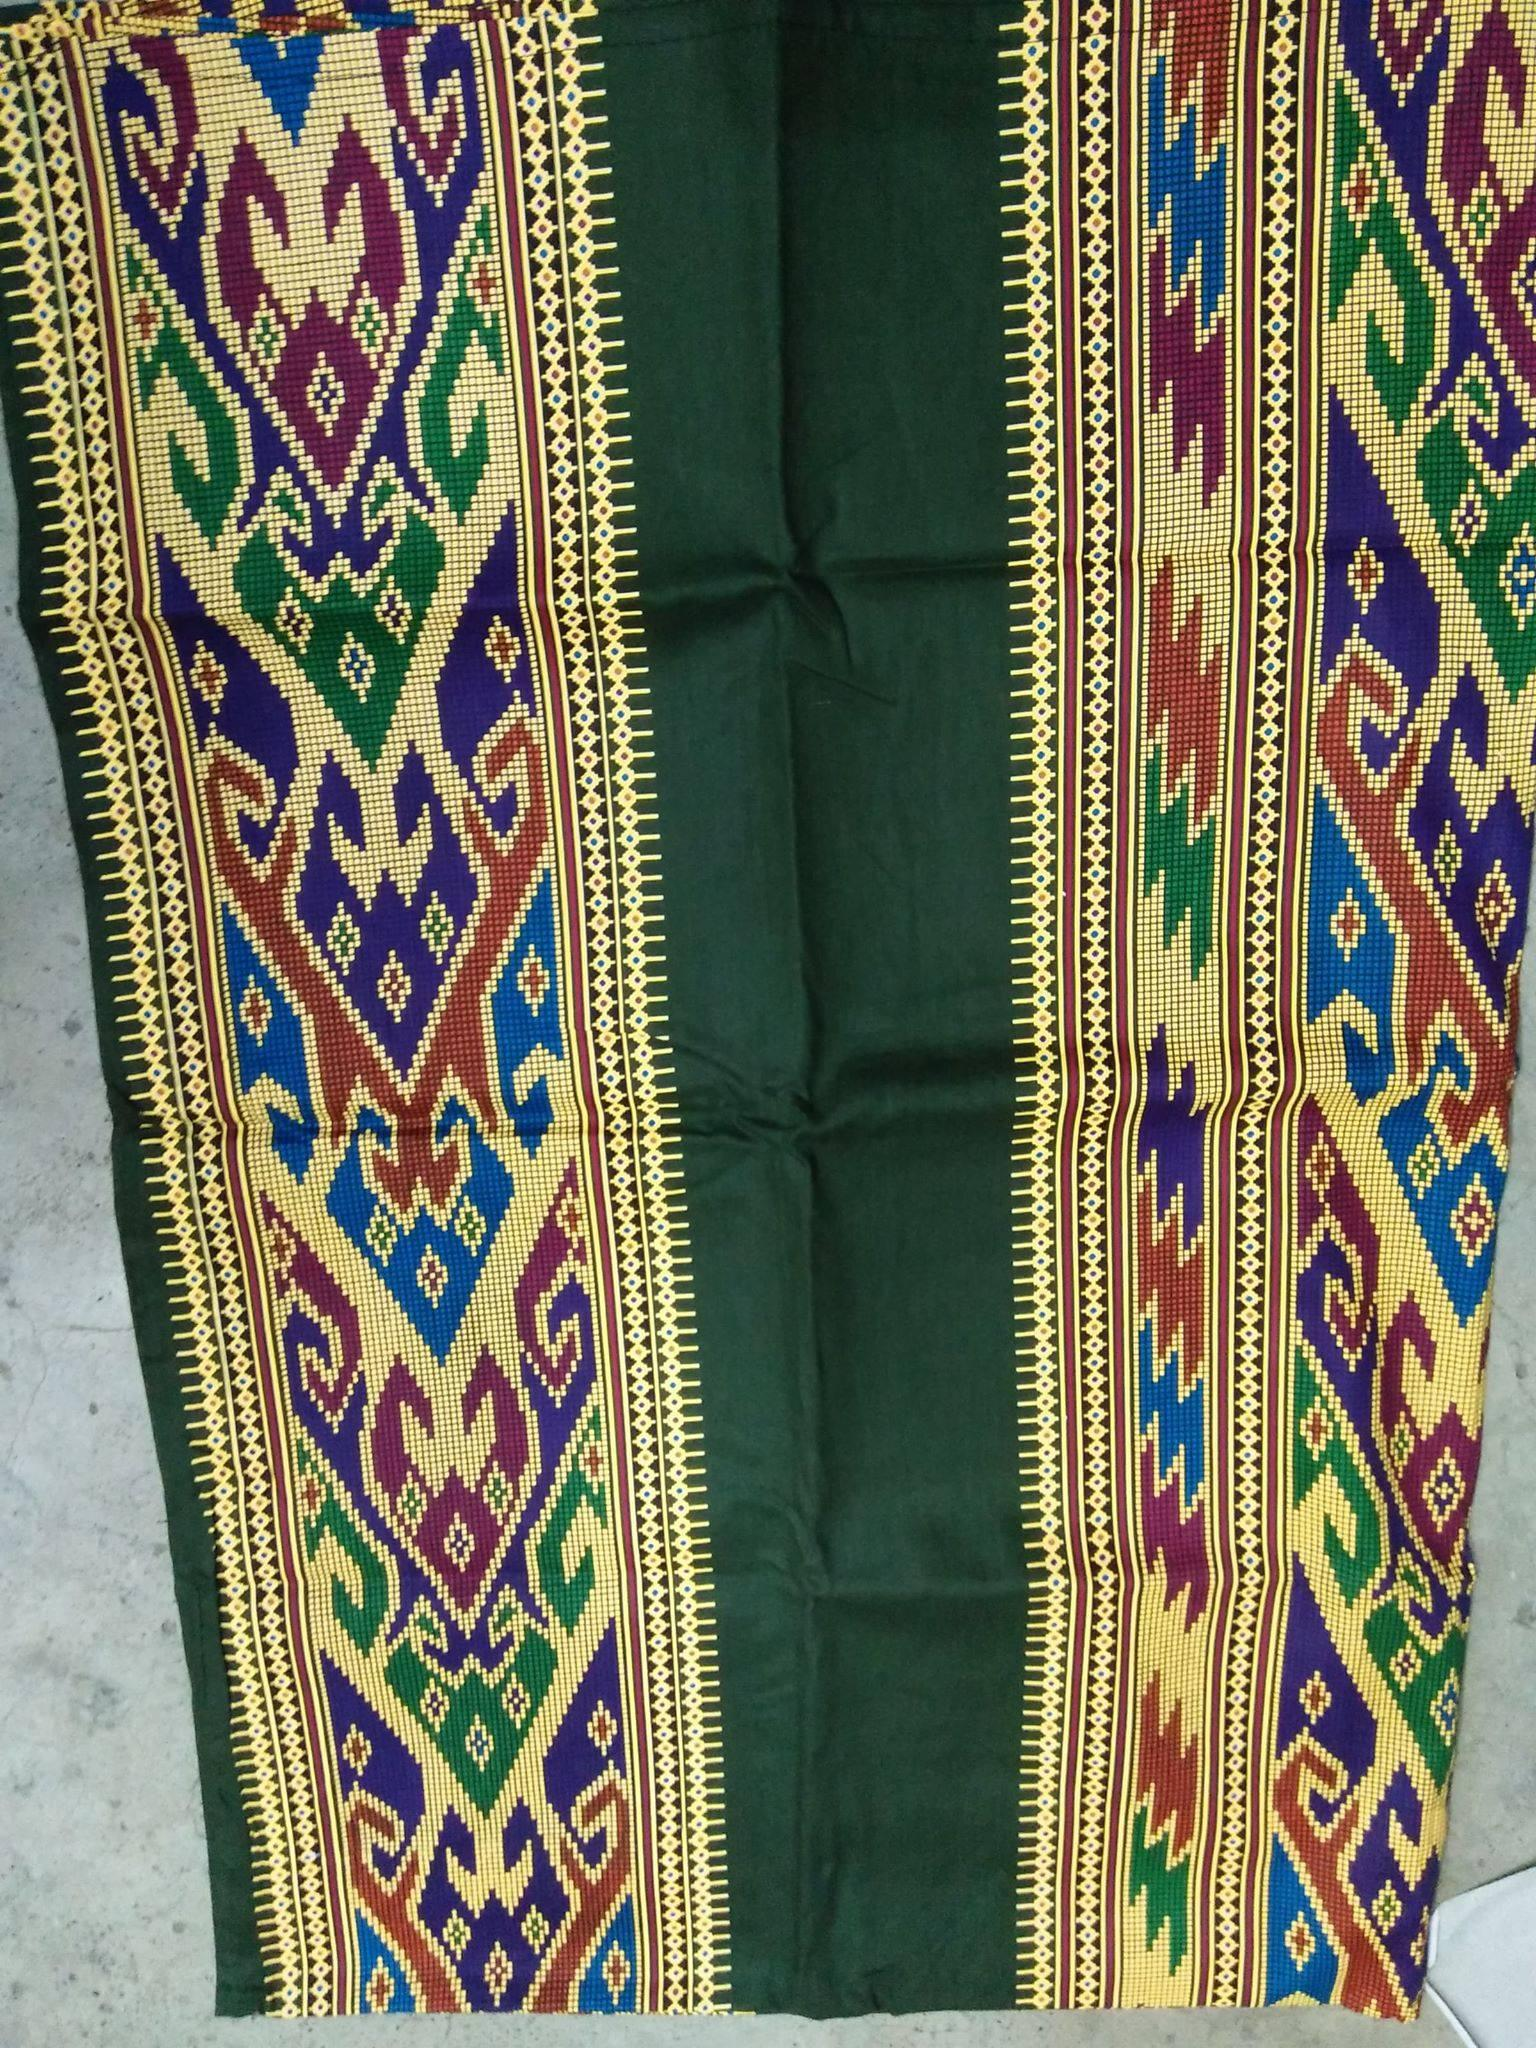malong: (0, 0, 1494, 2014)
